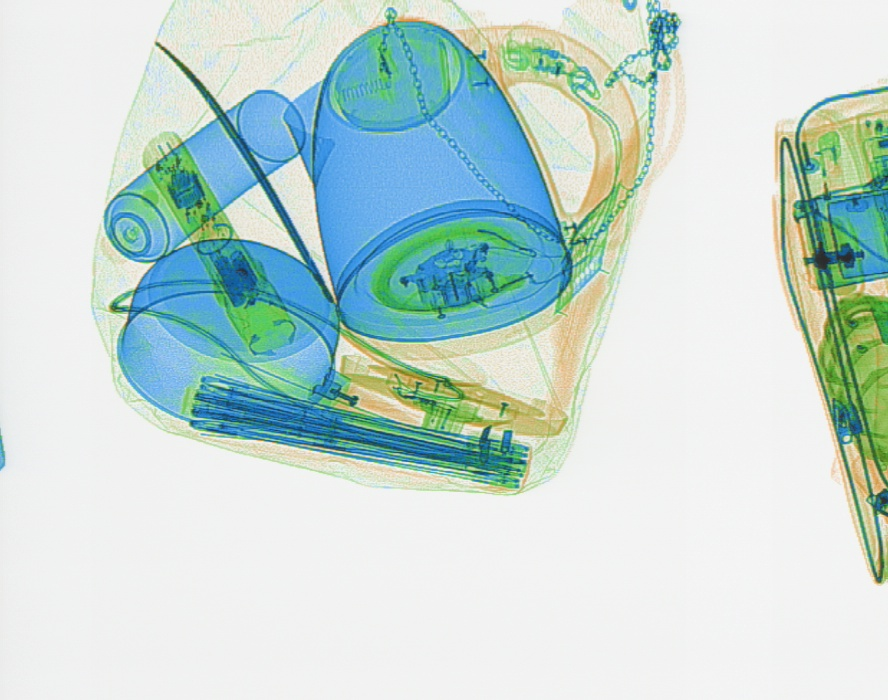pressure: (99, 88, 306, 268)
